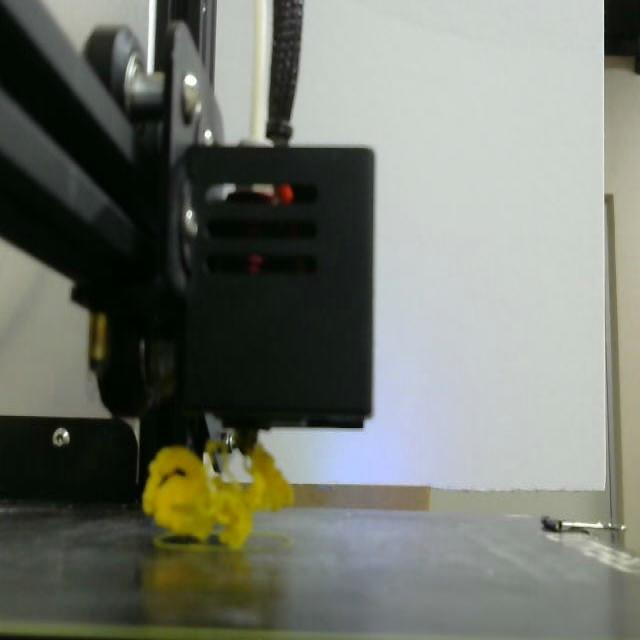spaghetti: (142, 432, 314, 558)
